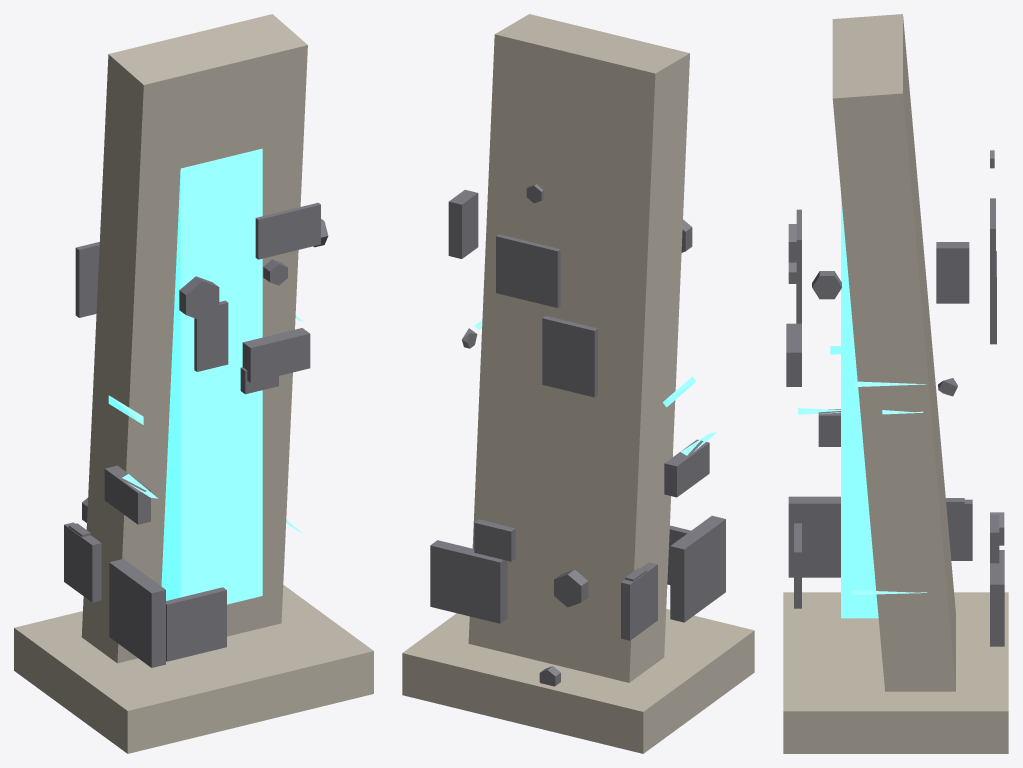
File: alien_monolith.glb
The picture shows the model from 3 angles, left to right: view 1: azimuth 30°, elevation 25°; view 2: azimuth 150°, elevation 25°; view 3: azimuth 270°, elevation 25°; orthographic projection. The views are drawn at different scales.
Parts seen in each view (by area): view 1: alien_monolith; view 2: alien_monolith; view 3: alien_monolith.
Part boxes in pixels (<box>): alien_monolith: <box>14,14,373,753</box>; alien_monolith: <box>402,14,754,753</box>; alien_monolith: <box>783,14,1008,753</box>.
Bounding box in the file's own units: 3.6 × 9.04 × 2.88.
